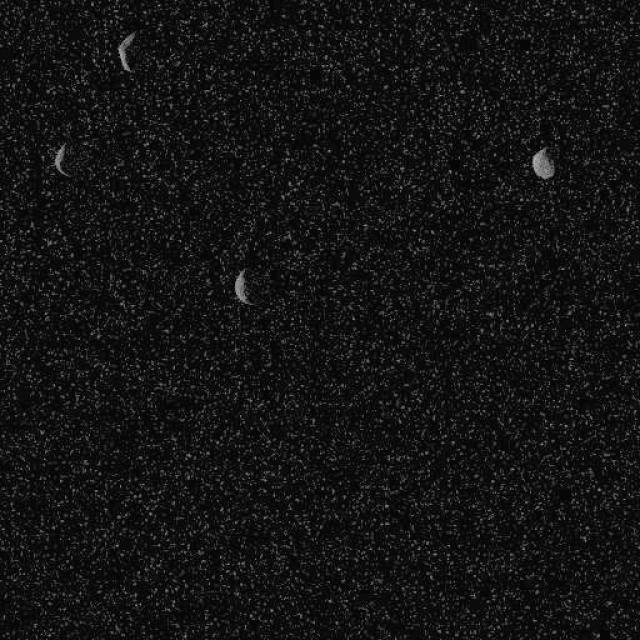D2: (232, 266, 254, 305), (530, 145, 555, 179), (116, 30, 136, 72), (52, 142, 70, 178)
